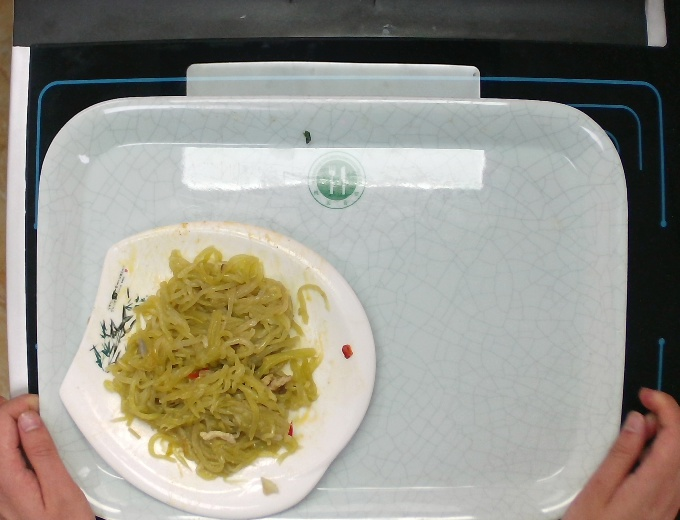JYsf-Mian_Pan: (56, 218, 379, 520)
